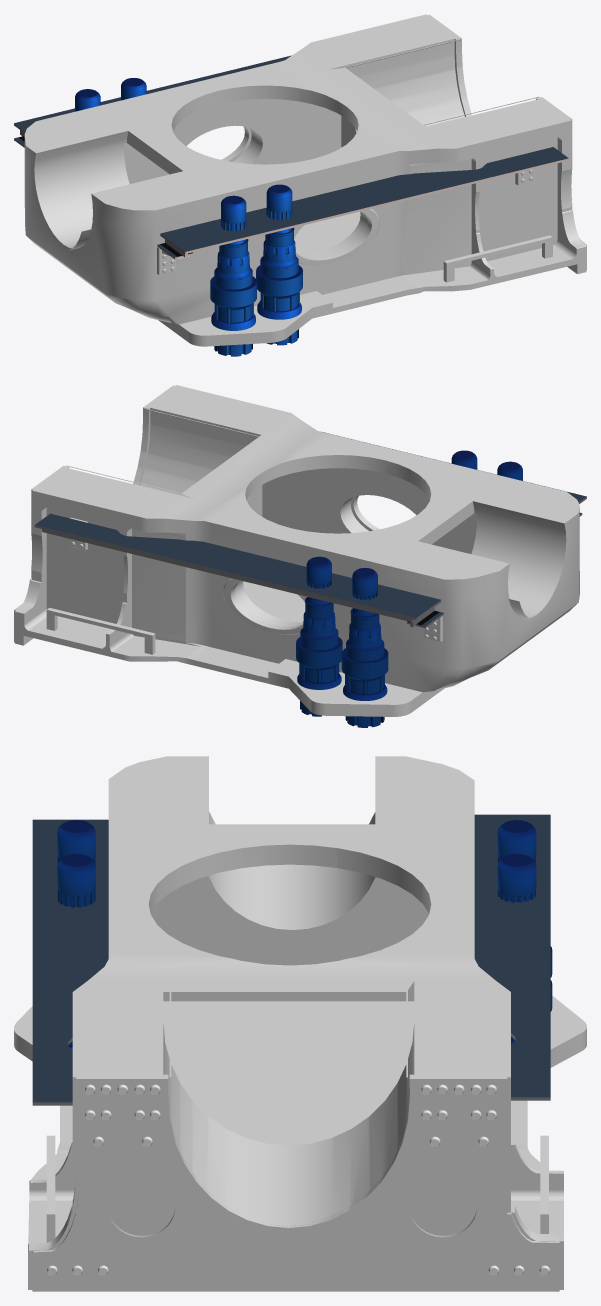
Rendered from dizuo_1.gltf.
The picture shows the model from 3 angles, top to bottom: view 1: azimuth 30°, elevation 25°; view 2: azimuth 150°, elevation 25°; view 3: azimuth 270°, elevation 25°; orthographic projection. The views are drawn at different scales.
Visible parts, largest first — view 1: 底盘1; view 2: 底盘1; view 3: 底盘1.
Boxes of the visible parts, x1,y1,x2,y2 form: 底盘1: [14, 14, 586, 356]; 底盘1: [14, 385, 586, 727]; 底盘1: [14, 756, 586, 1291].
Size of the model in its own units: 17.38 by 5.48 by 12.69.
Materials: 7 (3 with a texture image).
